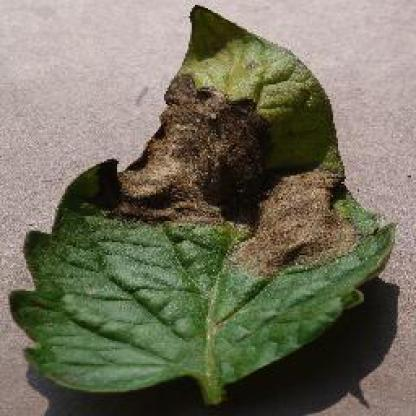bad leaf: (124, 6, 372, 280)
